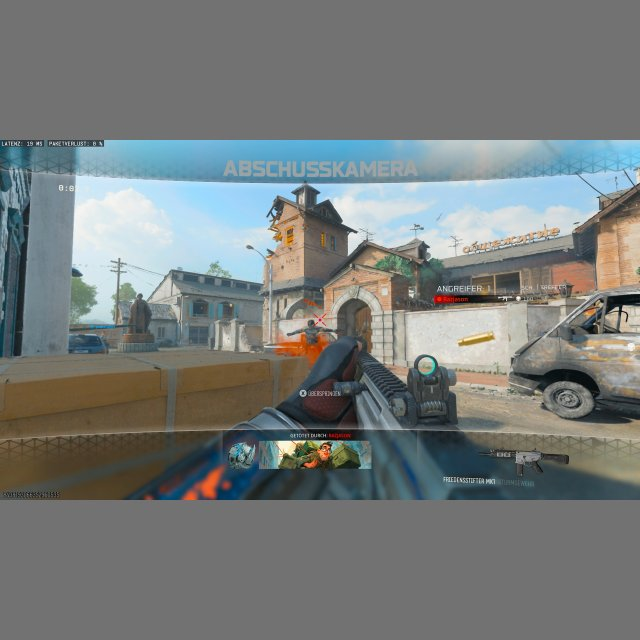player: (98, 332, 109, 354)
